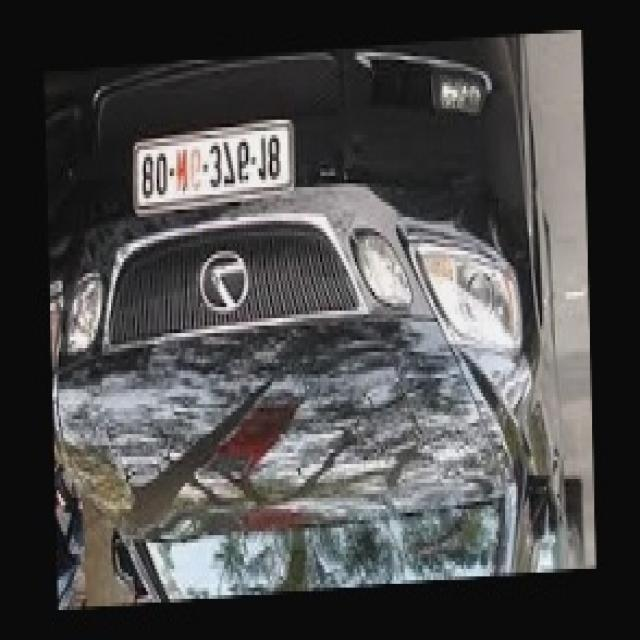bien_ngoai_giao: (132, 127, 297, 206)
